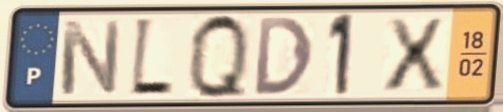1: (324, 10, 358, 100)
D: (253, 14, 316, 98)
L: (127, 14, 177, 101)
N: (57, 18, 124, 98)
Q: (186, 9, 251, 103)
X: (381, 15, 447, 95)
